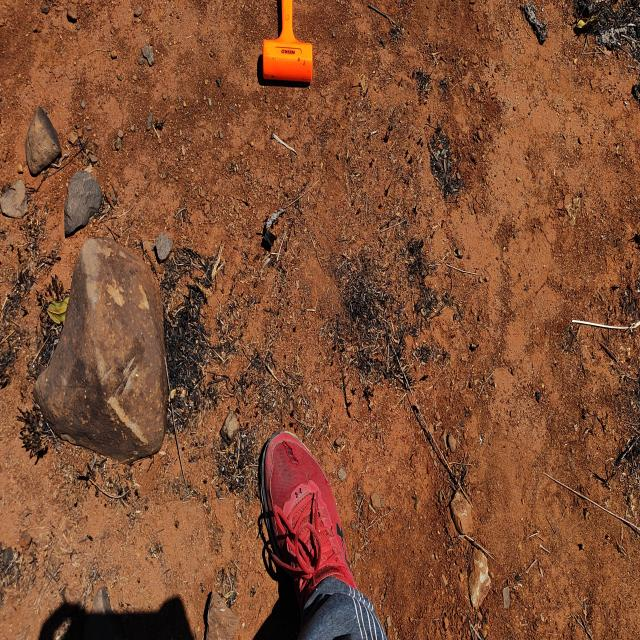Orange_hammer: (261, 0, 313, 86)
